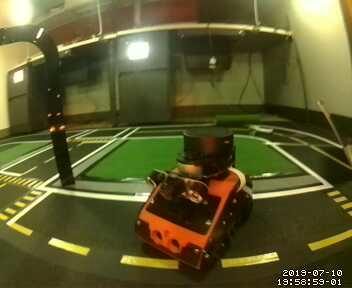pheeno: (131, 126, 255, 280)
